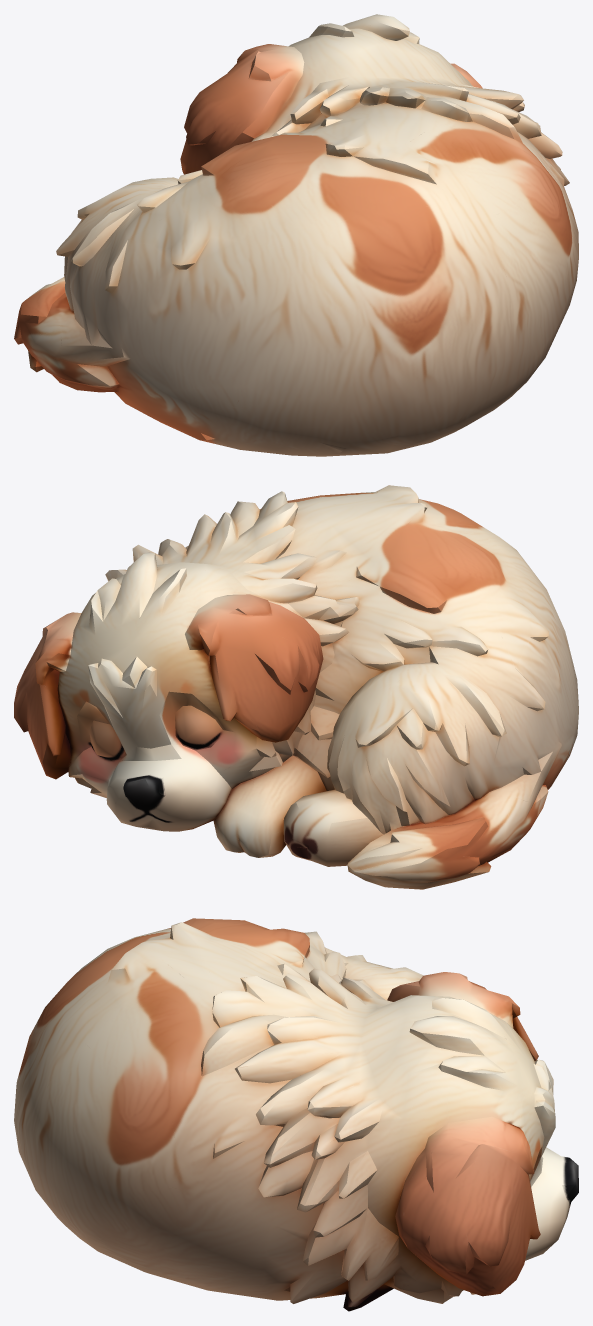
The model's file is DogSleeping.glb.
3 views of the same model, one above another, from view 1: azimuth 30°, elevation 25°; view 2: azimuth 150°, elevation 25°; view 3: azimuth 270°, elevation 25° (orthographic). The views are drawn at different scales.
Parts seen in each view (by area): view 1: geometry_0; view 2: geometry_0; view 3: geometry_0.
Part boxes in pixels (x1,y1,x2,y2): geometry_0: (14, 14, 578, 456); geometry_0: (14, 485, 578, 889); geometry_0: (14, 918, 578, 1311).
Bounding box in the file's own units: 0.34 × 0.1795 × 0.3274.
Materials: 1 (1 with a texture image).
